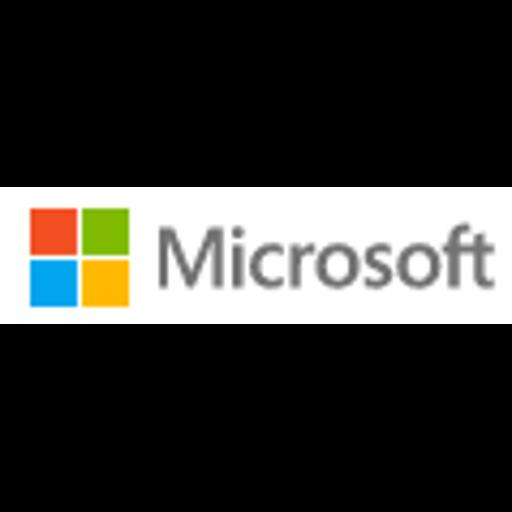Outlook: (0, 187, 512, 324)
